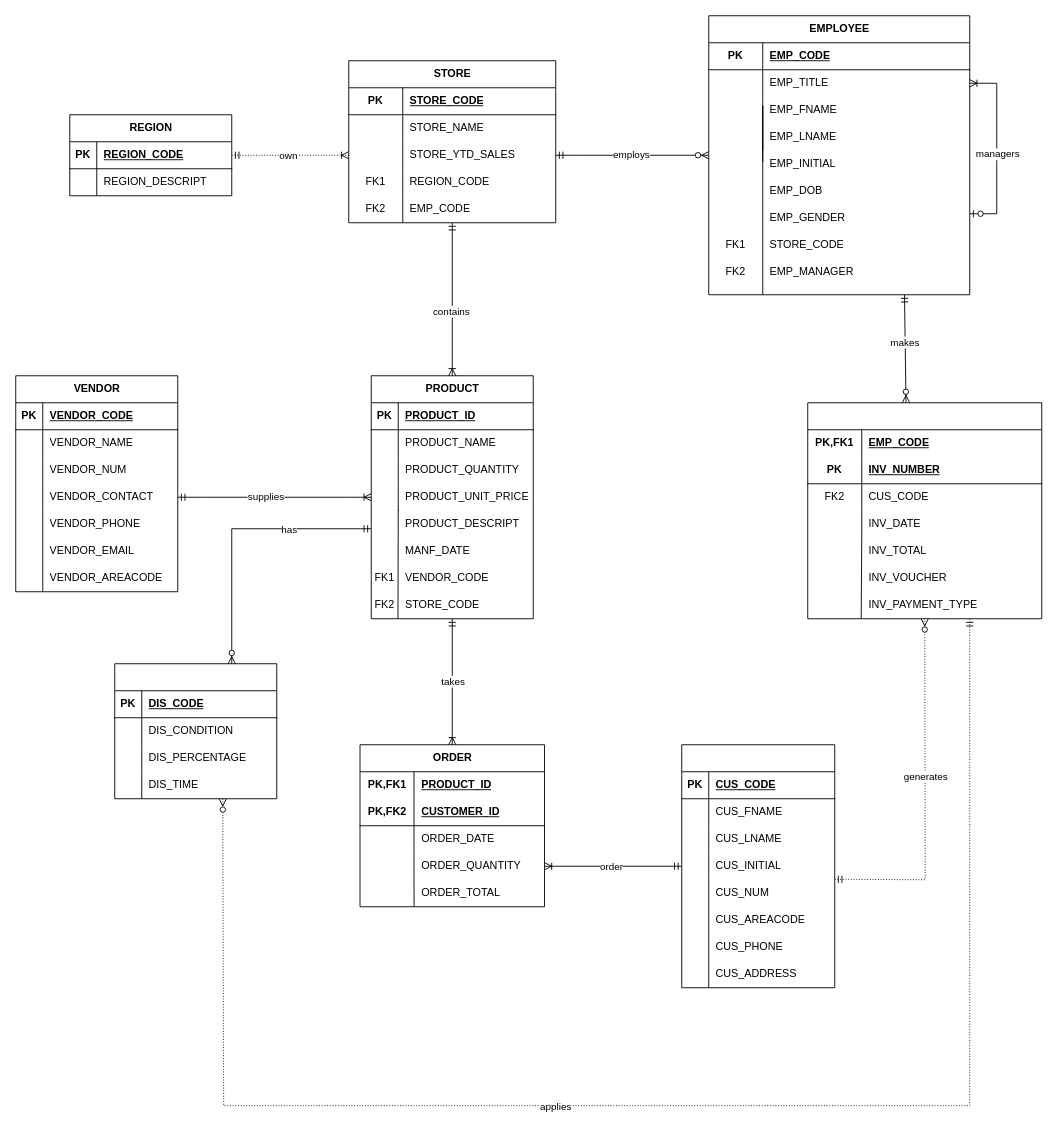
This 1058x1130 diagram has some shape labels left out. Here are the shapes that lost their labels. From the top down, the box of each, then its label:
(807, 402, 1042, 619): INVOICE
(114, 663, 277, 799): DISCOUNT
(681, 744, 835, 988): CUSTOMER
